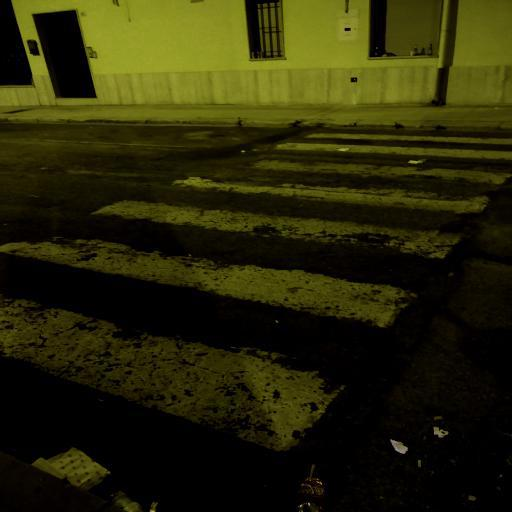crosswalk: (1, 196, 480, 334)
